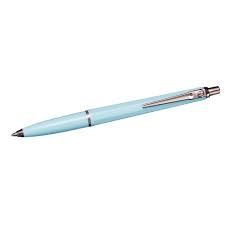qillqana: (7, 80, 222, 143)
